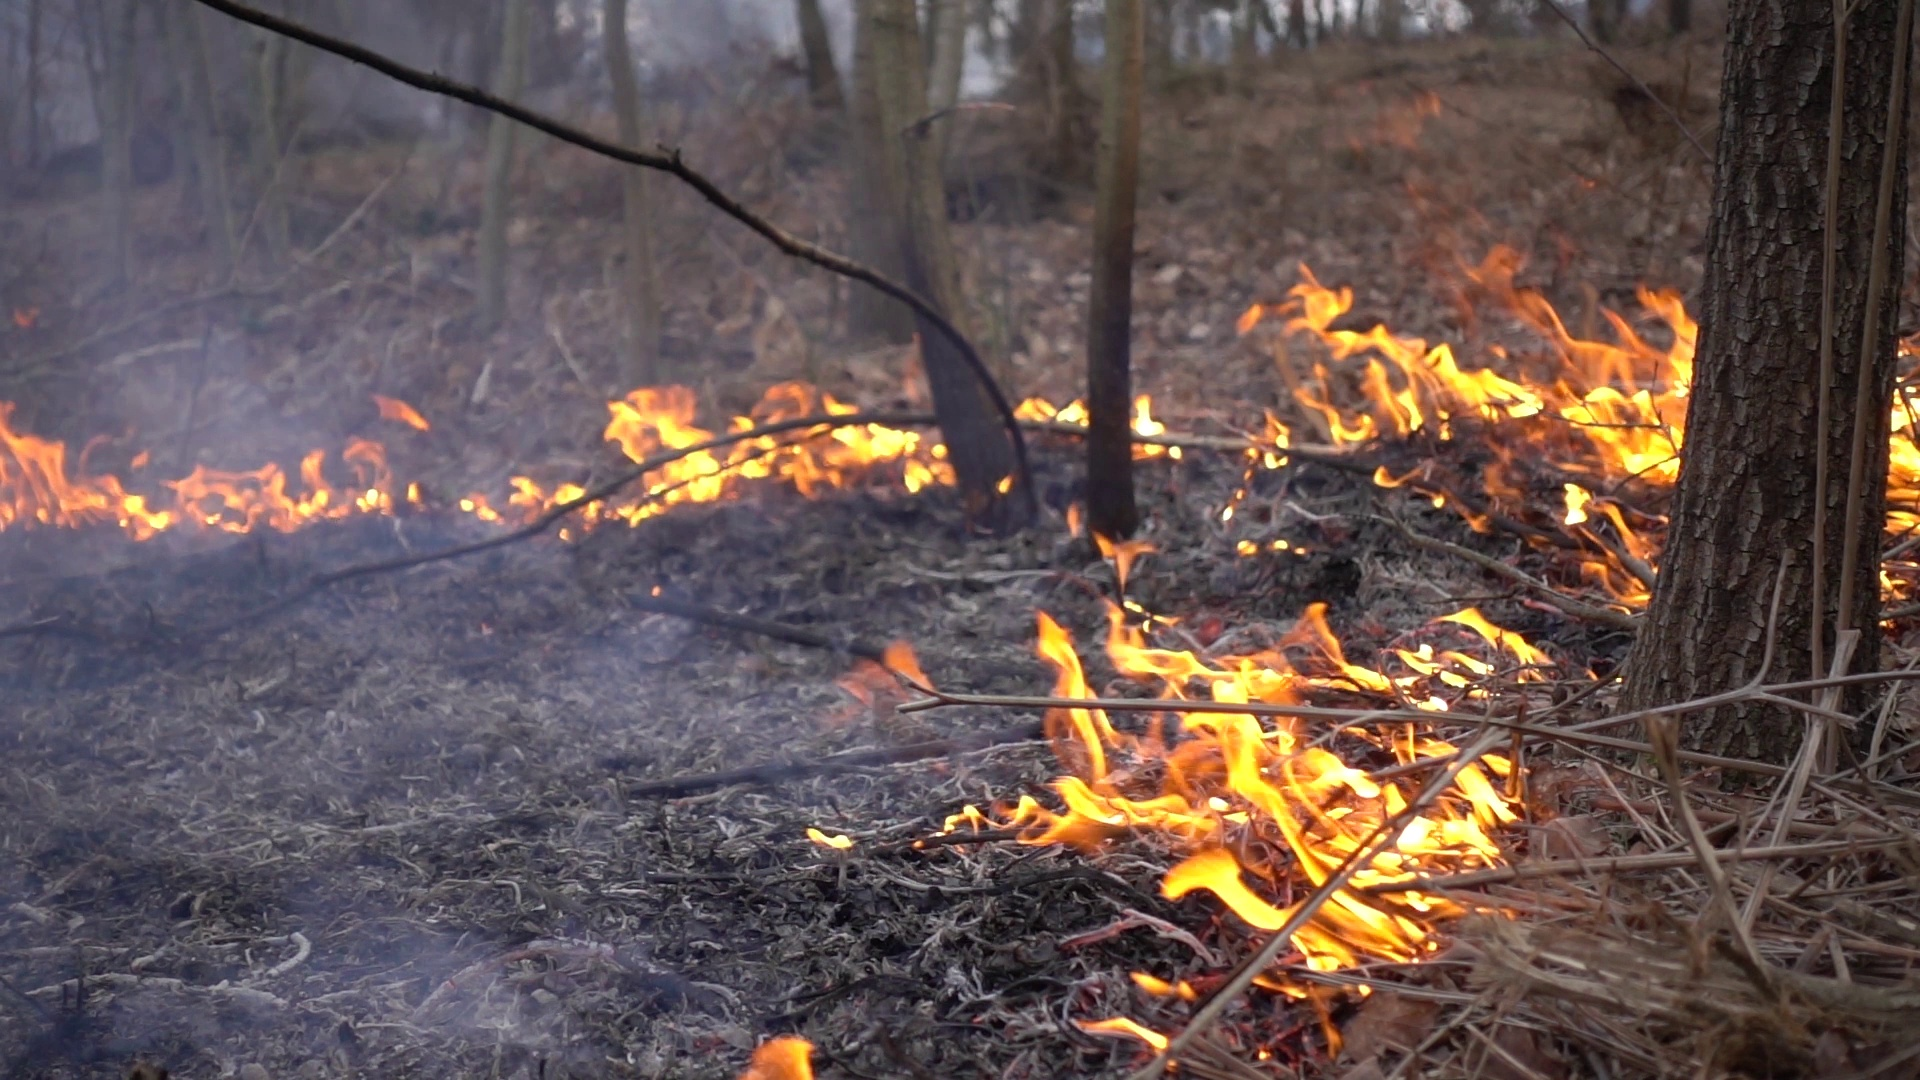fire: (1030, 616, 1538, 1036), (1271, 266, 1695, 601), (1, 431, 382, 531), (603, 380, 915, 492), (1892, 352, 1920, 554), (746, 1034, 814, 1080)
